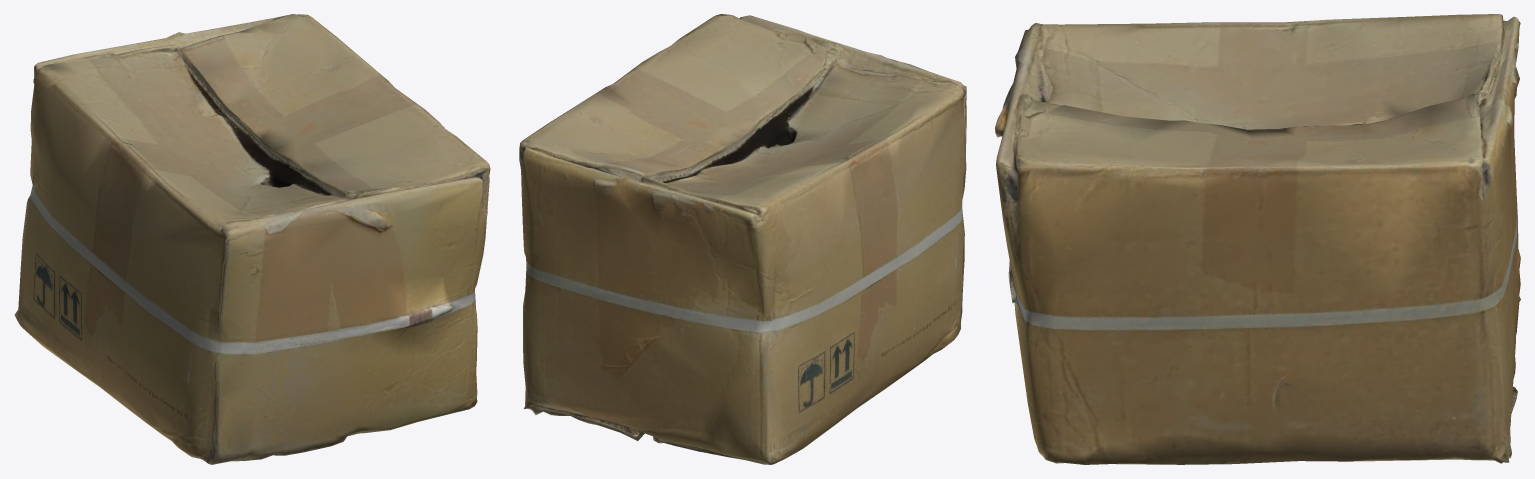
Rendered from cardboard_box_01.lite.glb.
3 renders of one model, left to right at view 1: azimuth 30°, elevation 25°; view 2: azimuth 150°, elevation 25°; view 3: azimuth 270°, elevation 25°, orthographic. The views are drawn at different scales.
Parts seen in each view (by area): view 1: cardboard_box_01; view 2: cardboard_box_01; view 3: cardboard_box_01.
Boxes of the visible parts, bbox=[...] form: cardboard_box_01: bbox=[14, 14, 490, 464]; cardboard_box_01: bbox=[519, 14, 966, 464]; cardboard_box_01: bbox=[995, 14, 1520, 464].
Bounding box in the file's own units: 0.3867 × 0.3418 × 0.5159.
1 material, 1 textured.
